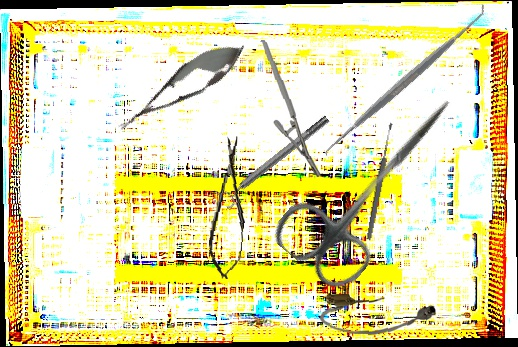Cannula: (319, 292, 438, 339)
Fixation Ring: (215, 110, 335, 211)
Iris Scissors: (266, 67, 483, 298)
Micro Scissor: (108, 29, 255, 145), (205, 134, 254, 281)
Needle Holder: (260, 37, 323, 180)
Spatula Surgical: (315, 0, 496, 162)
Surgical Spoon: (365, 121, 395, 242)
